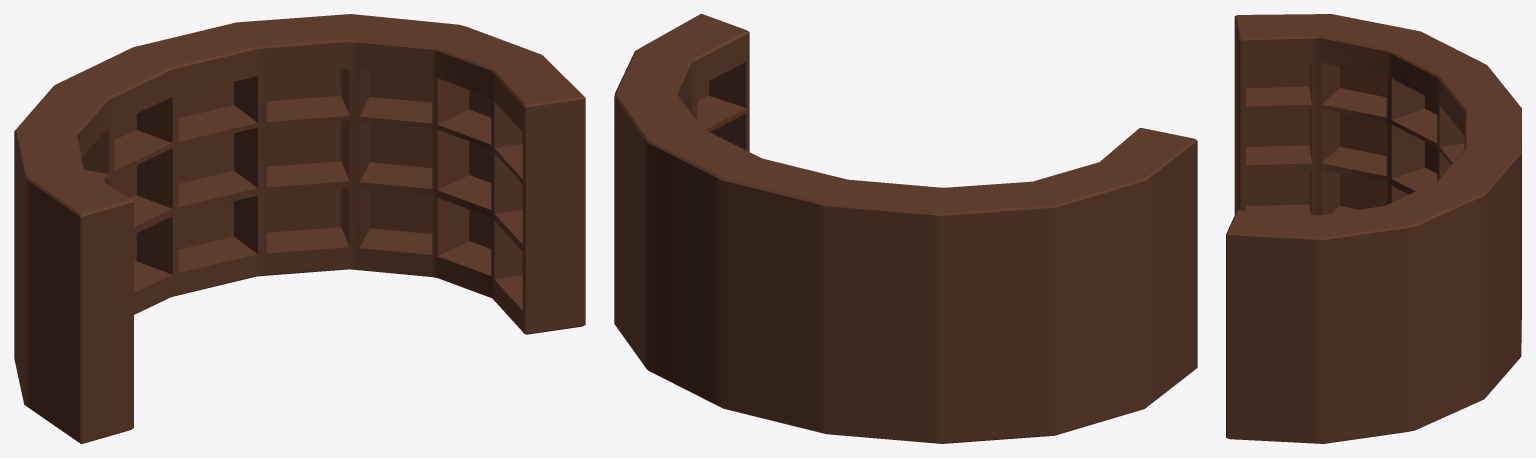
The model's file is big_book_shelf.fbx.
3 renders of one model, left to right at view 1: azimuth 30°, elevation 25°; view 2: azimuth 150°, elevation 25°; view 3: azimuth 270°, elevation 25°, orthographic. The views are drawn at different scales.
Parts seen in each view (by area): view 1: pCylinder1; view 2: pCylinder1; view 3: pCylinder1.
Part boxes in pixels (box(x1,y1,x2,y2)): pCylinder1: box(14, 14, 585, 443); pCylinder1: box(614, 14, 1197, 443); pCylinder1: box(1226, 14, 1521, 443).
Size of the model in its own units: 54.65 by 23.34 by 30.35.
